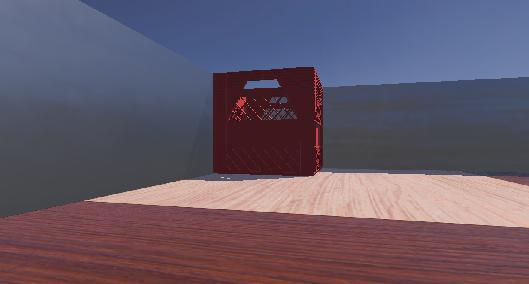PlasticCrate: (208, 55, 330, 183)
